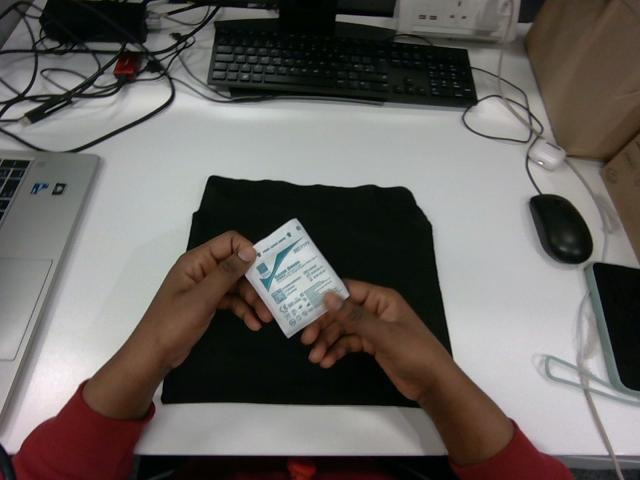gauze: (246, 219, 348, 337)
